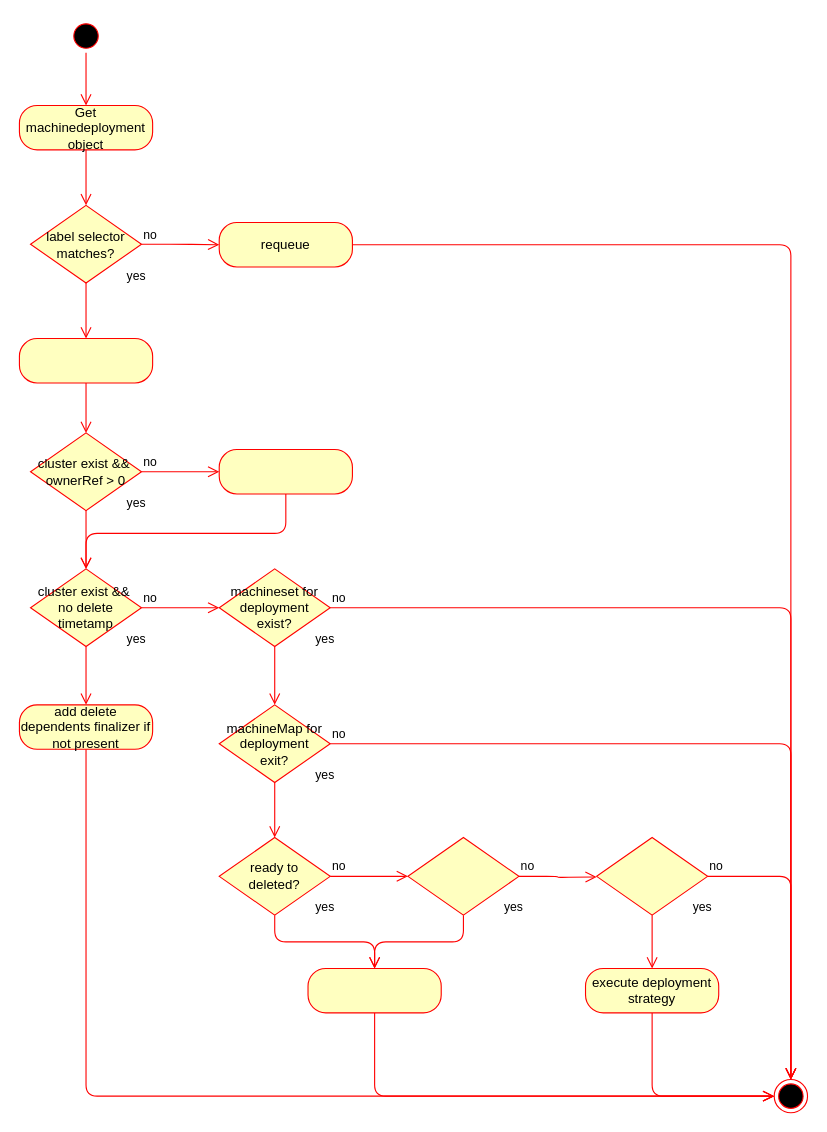
Some shapes in this 827 by 1132 pixel diagram are drawn without their labels. Each missing label, with the box of its shape:
execute sync: (307, 967, 441, 1013)
get cluster for machineset: (18, 337, 153, 383)
is paused?: (407, 836, 519, 915)
set ownerRef && set blockOwnerDeletion: (218, 448, 352, 494)
strategy known?: (596, 836, 708, 915)
